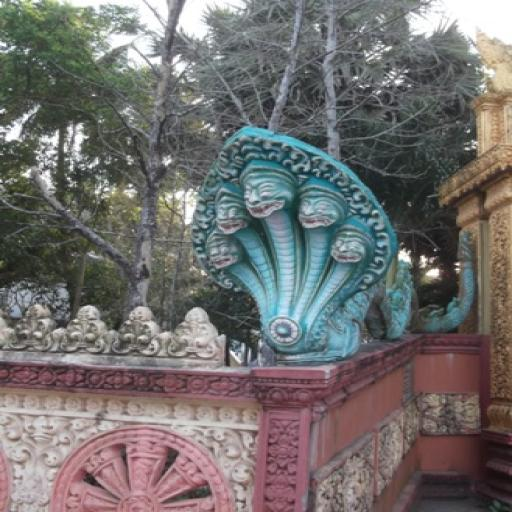hoa: (157, 372, 188, 394), (188, 375, 212, 398), (9, 365, 41, 382), (132, 370, 154, 393), (212, 376, 237, 396), (60, 368, 82, 389), (106, 371, 130, 390), (34, 367, 56, 386), (88, 370, 105, 390)
la: (111, 304, 177, 356), (63, 300, 122, 354), (174, 304, 228, 360), (4, 302, 66, 350)
ran: (201, 135, 395, 358)
